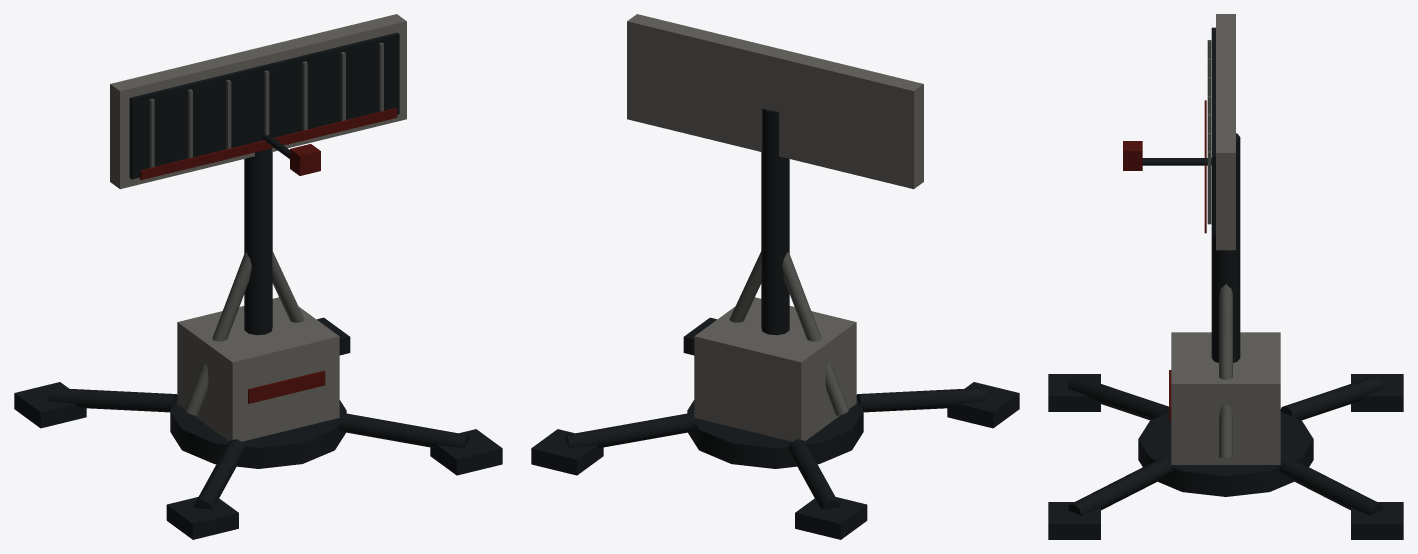
3 views of the same model, side by side, from view 1: azimuth 30°, elevation 25°; view 2: azimuth 150°, elevation 25°; view 3: azimuth 270°, elevation 25° (orthographic).
Visible parts, largest first — view 1: radar-station-fleet-machine, radar-fleet-machine, radar-station-fleet-armor, radar-fleet-armor, radar-fleet-red, radar-station-fleet-edge, radar-fleet-edge, radar-station-fleet-red; view 2: radar-fleet-armor, radar-station-fleet-machine, radar-station-fleet-armor, radar-station-fleet-edge; view 3: radar-station-fleet-machine, radar-station-fleet-armor, radar-fleet-armor, radar-station-fleet-edge, radar-fleet-machine, radar-fleet-red, radar-fleet-edge.
Boxes of the visible parts, box(x1,y1,x2,y2) form: radar-station-fleet-machine: box(14, 148, 502, 539); radar-fleet-machine: box(129, 32, 399, 179); radar-station-fleet-armor: box(177, 297, 339, 441); radar-fleet-armor: box(110, 14, 406, 189); radar-fleet-red: box(140, 108, 397, 180); radar-station-fleet-edge: box(185, 251, 304, 415); radar-fleet-edge: box(149, 42, 383, 167); radar-station-fleet-red: box(248, 370, 325, 403); radar-fleet-armor: box(627, 14, 923, 189); radar-station-fleet-machine: box(531, 108, 1019, 539); radar-station-fleet-armor: box(694, 297, 856, 441); radar-station-fleet-edge: box(729, 251, 848, 415); radar-station-fleet-machine: box(1048, 133, 1403, 539); radar-station-fleet-armor: box(1171, 332, 1280, 464); radar-fleet-armor: box(1216, 14, 1235, 250); radar-station-fleet-edge: box(1219, 284, 1232, 457); radar-fleet-machine: box(1142, 27, 1215, 236); radar-fleet-red: box(1123, 100, 1206, 233); radar-fleet-edge: box(1207, 40, 1211, 224).
Bounding box in the file's own units: 20 × 23.7 × 20.
